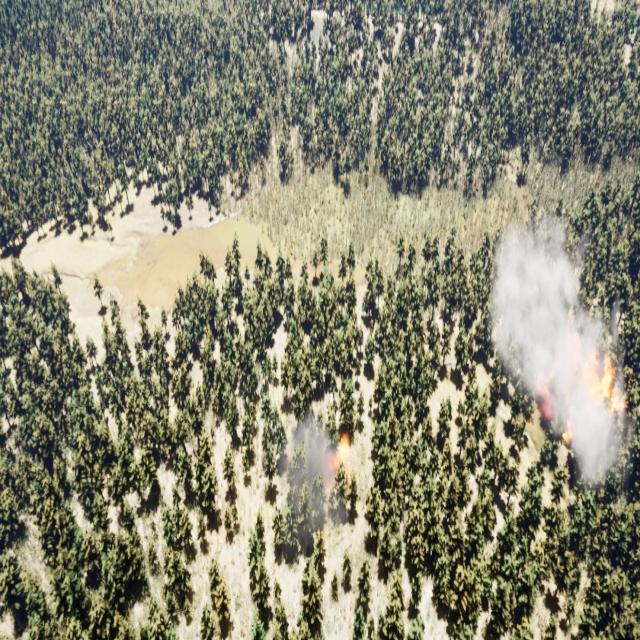fire: (534, 353, 628, 442), (328, 431, 356, 474)
smoke: (483, 212, 633, 490), (282, 414, 352, 526)
